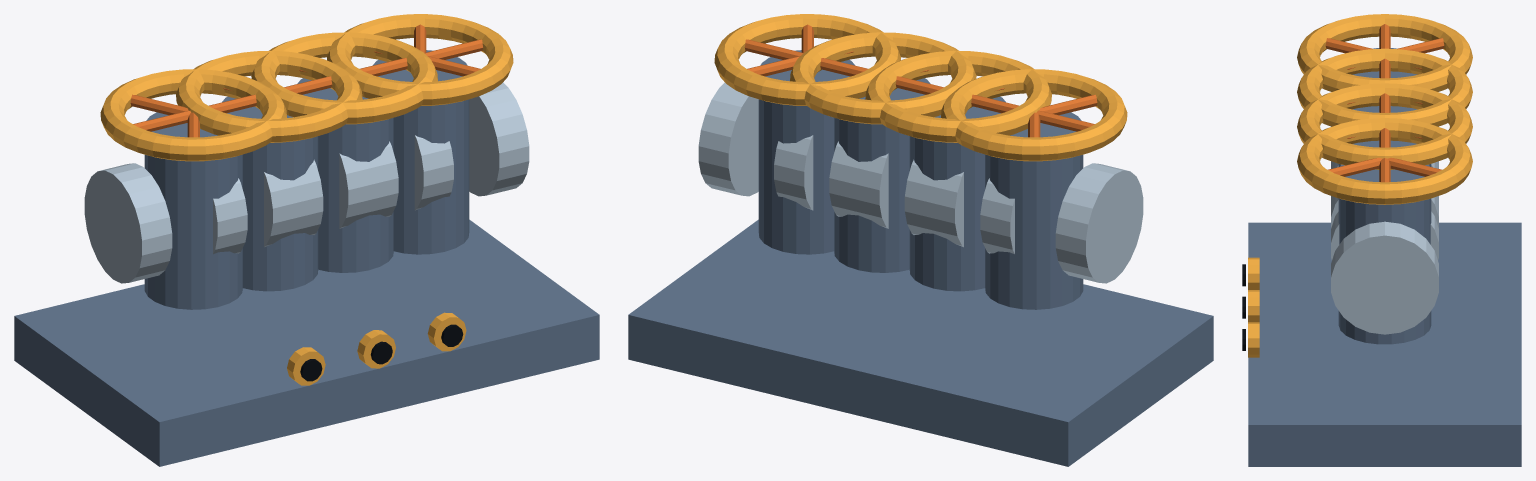
File: 50_L90_XenonHighPressureFillInterface.fbx
3 renders of one model, left to right at view 1: azimuth 30°, elevation 25°; view 2: azimuth 150°, elevation 25°; view 3: azimuth 270°, elevation 25°, orthographic. The views are drawn at different scales.
Visible parts, largest first — view 1: L90_XenonHighPressureFillInterface, L90_XenonHighPressureFillInterface_Part_0009, L90_XenonHighPressureFillInterface_Part_0005, L90_XenonHighPressureFillInterface_Part_0007; view 2: L90_XenonHighPressureFillInterface; view 3: L90_XenonHighPressureFillInterface, L90_XenonHighPressureFillInterface_Part_0009, L90_XenonHighPressureFillInterface_Part_0005, L90_XenonHighPressureFillInterface_Part_0007.
Boxes of the visible parts, left/top/right/bottom form: L90_XenonHighPressureFillInterface: left=14, top=14, right=599, bottom=466; L90_XenonHighPressureFillInterface_Part_0009: left=427, top=312, right=466, bottom=351; L90_XenonHighPressureFillInterface_Part_0005: left=287, top=347, right=325, bottom=385; L90_XenonHighPressureFillInterface_Part_0007: left=357, top=330, right=395, bottom=368; L90_XenonHighPressureFillInterface: left=628, top=14, right=1213, bottom=466; L90_XenonHighPressureFillInterface: left=1248, top=14, right=1521, bottom=466; L90_XenonHighPressureFillInterface_Part_0009: left=1248, top=322, right=1259, bottom=357; L90_XenonHighPressureFillInterface_Part_0005: left=1248, top=257, right=1259, bottom=289; L90_XenonHighPressureFillInterface_Part_0007: left=1248, top=290, right=1259, bottom=322.
Bounding box in the file's own units: 175 × 108 × 102.
